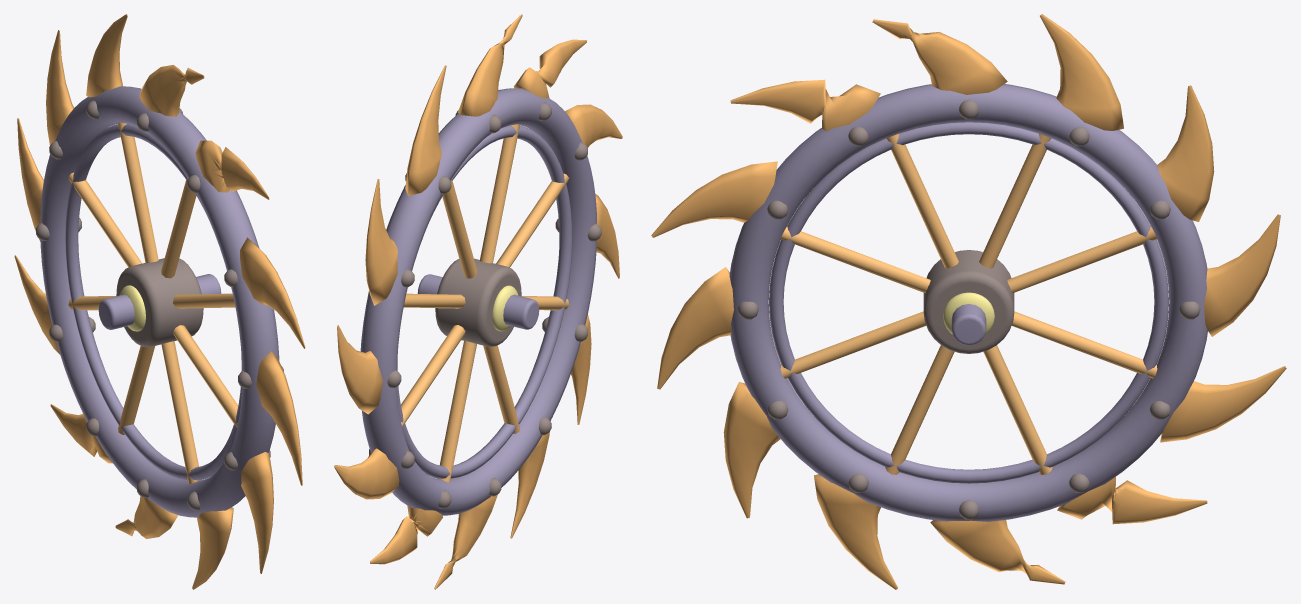
File: SunWheel.glb
The picture shows the model from 3 angles, left to right: view 1: azimuth 30°, elevation 25°; view 2: azimuth 150°, elevation 25°; view 3: azimuth 270°, elevation 25°; orthographic projection. The views are drawn at different scales.
Visible parts, largest first — view 1: Rim, Flames, Spokes, Trim, Eye; view 2: Rim, Flames, Spokes, Trim, Eye; view 3: Rim, Flames, Spokes, Trim, Eye.
Part boxes in pixels (<box>): Rim: <box>40,86,279,517</box>; Flames: <box>14,14,305,589</box>; Spokes: <box>68,122,238,484</box>; Trim: <box>36,100,283,510</box>; Eye: <box>119,285,145,331</box>; Rim: <box>360,88,596,515</box>; Flames: <box>334,14,622,589</box>; Spokes: <box>401,124,569,482</box>; Trim: <box>369,102,601,508</box>; Eye: <box>492,285,518,331</box>; Rim: <box>729,84,1207,521</box>; Flames: <box>651,14,1286,589</box>; Spokes: <box>780,134,1157,474</box>; Trim: <box>737,99,1200,519</box>; Eye: <box>943,292,994,334</box>.
Size of the model in its own units: 6.4 by 29.35 by 29.35.
